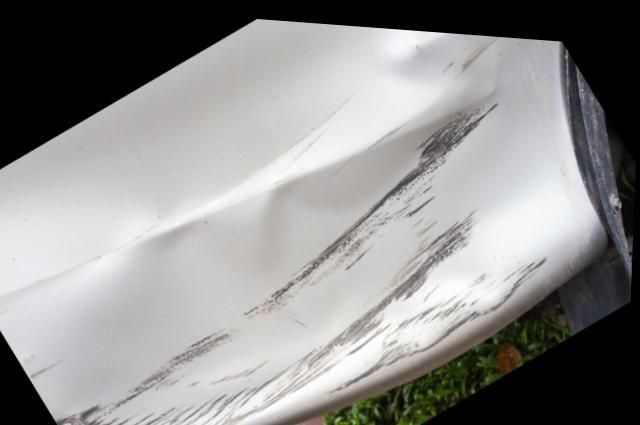dent: (34, 19, 590, 425)
